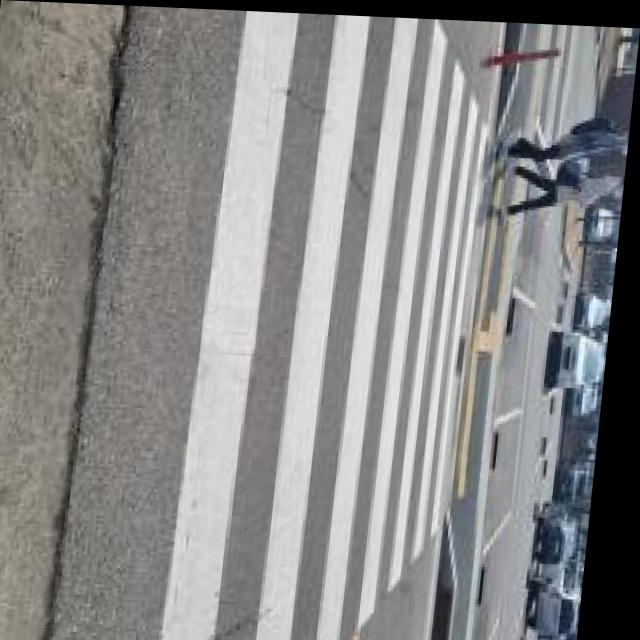zebra: (118, 76, 515, 634)
